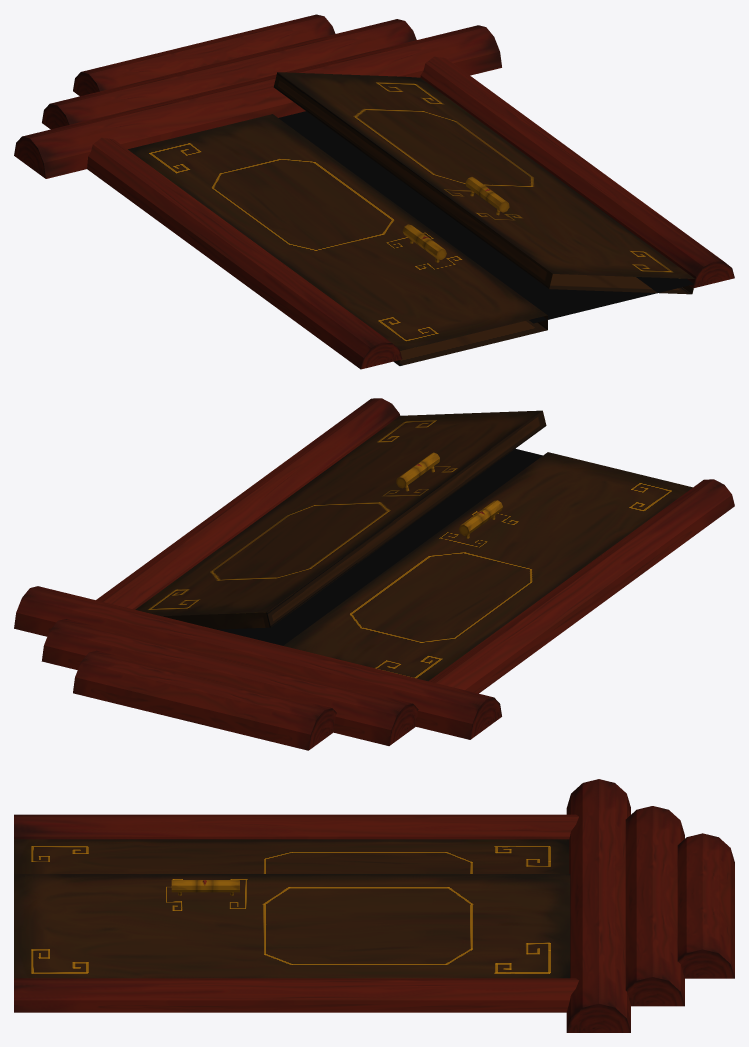
The model's file is door.dae.
The picture shows the model from 3 angles, top to bottom: view 1: azimuth 30°, elevation 25°; view 2: azimuth 150°, elevation 25°; view 3: azimuth 270°, elevation 25°; orthographic projection.
Visible parts, largest first — view 1: Cube_009, Cube_015, Cube_012, Cube_013, Plane, Cube_014; view 2: Cube_009, Cube_015, Cube_012, Cube_014, Cube_013, Plane; view 3: Cube_009, Cube_015, Cube_012, Cube_013, Cube_014.
Boxes of the visible parts, x1,y1,x2,y2 form: Cube_009: [128, 72, 694, 365]; Cube_015: [87, 56, 734, 369]; Cube_012: [14, 25, 501, 178]; Cube_013: [42, 19, 416, 129]; Plane: [278, 111, 693, 323]; Cube_014: [73, 14, 335, 96]; Cube_009: [135, 410, 692, 681]; Cube_015: [96, 398, 734, 693]; Cube_012: [14, 586, 501, 739]; Cube_014: [73, 650, 336, 750]; Cube_013: [41, 619, 418, 745]; Plane: [217, 448, 542, 645]; Cube_009: [14, 839, 570, 978]; Cube_015: [14, 814, 578, 1012]; Cube_012: [566, 779, 630, 1032]; Cube_013: [625, 806, 684, 1006]; Cube_014: [677, 833, 734, 978].
Bounding box in the file's own units: 5.54 × 7.52 × 0.7297.
Materials: 2 (1 with a texture image).
